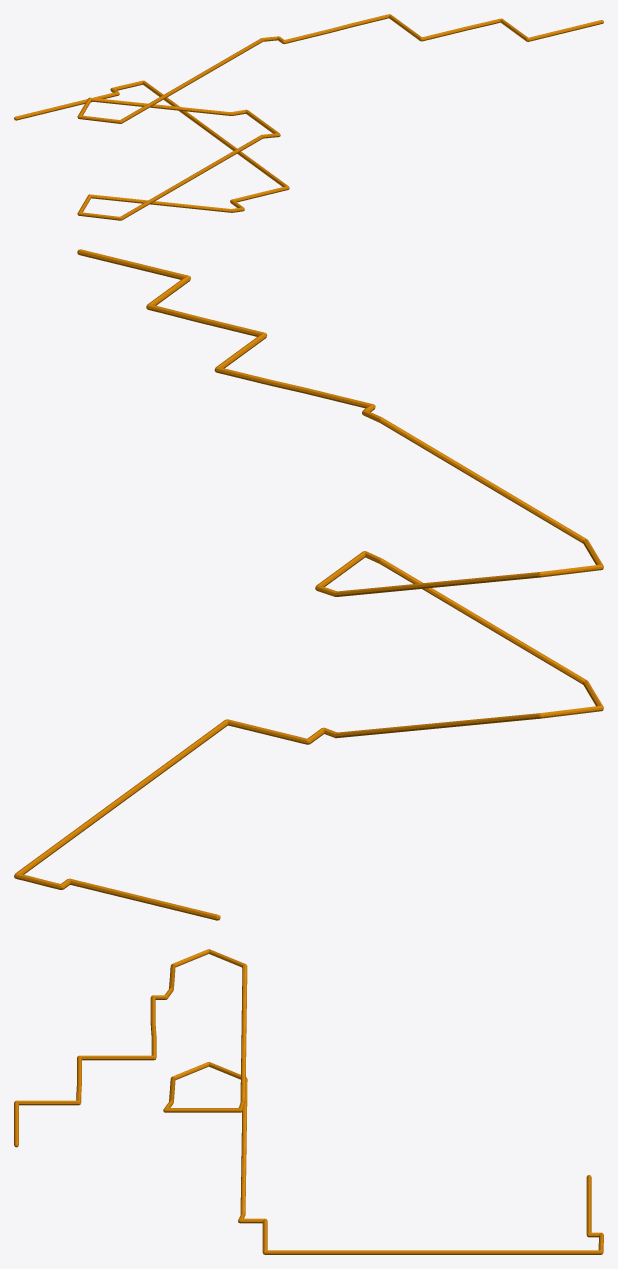
3 renders of one model, top to bottom at view 1: azimuth 30°, elevation 25°; view 2: azimuth 150°, elevation 25°; view 3: azimuth 270°, elevation 25°, orthographic. The views are drawn at different scales.
Size of the model in its own units: 2398 by 1020 by 2371.
